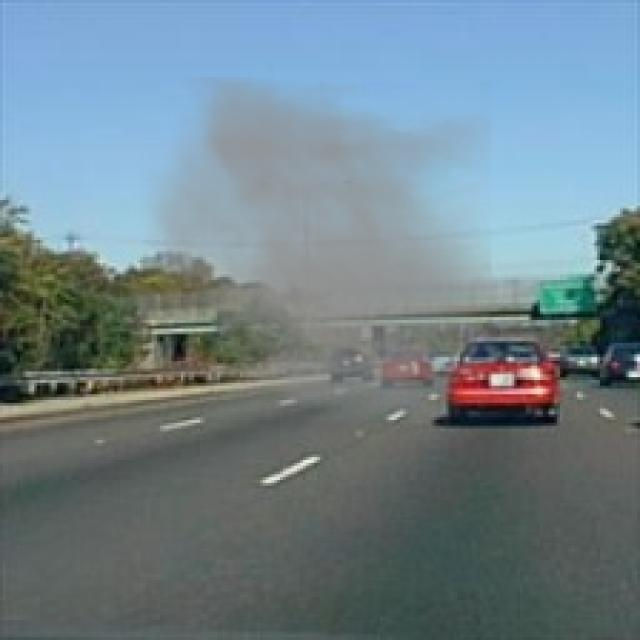smoke: (132, 77, 492, 426)
